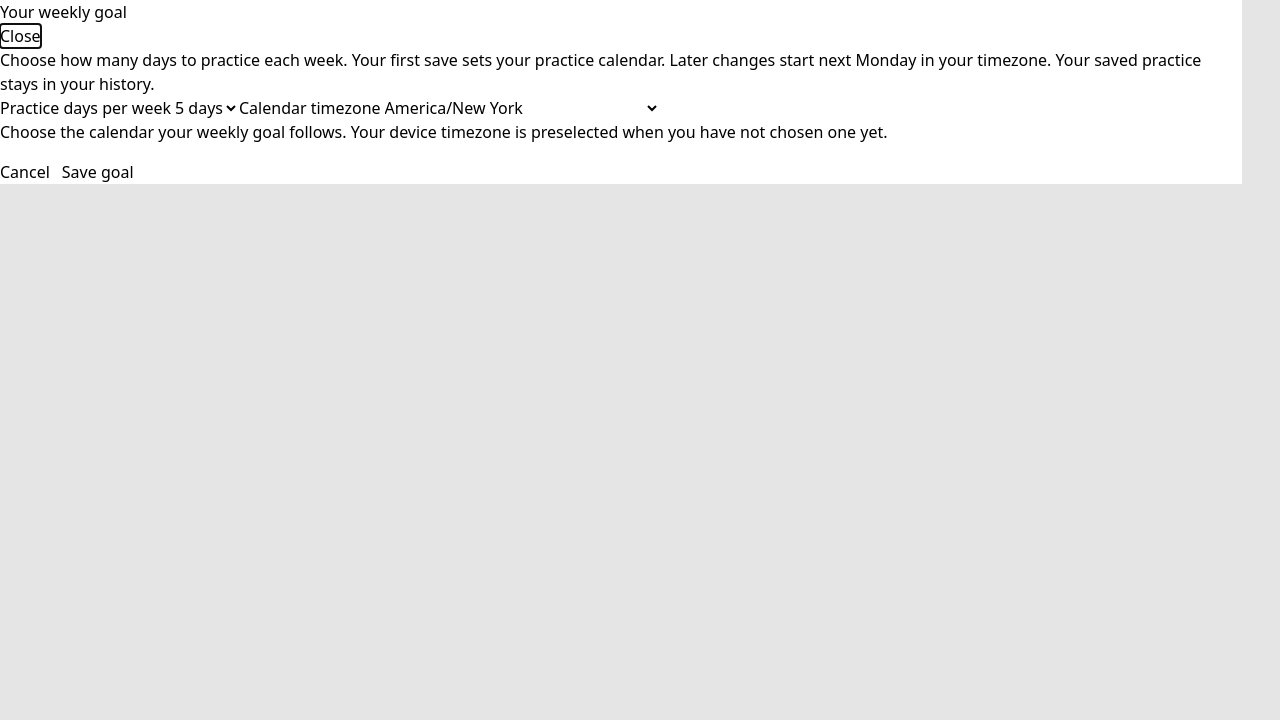
it: retains the dialog on failed save
What coordinates should you click on to do the following:
click the button "Save goal"
I would click on:
 (98, 172)
Its box is [62,160,134,184].
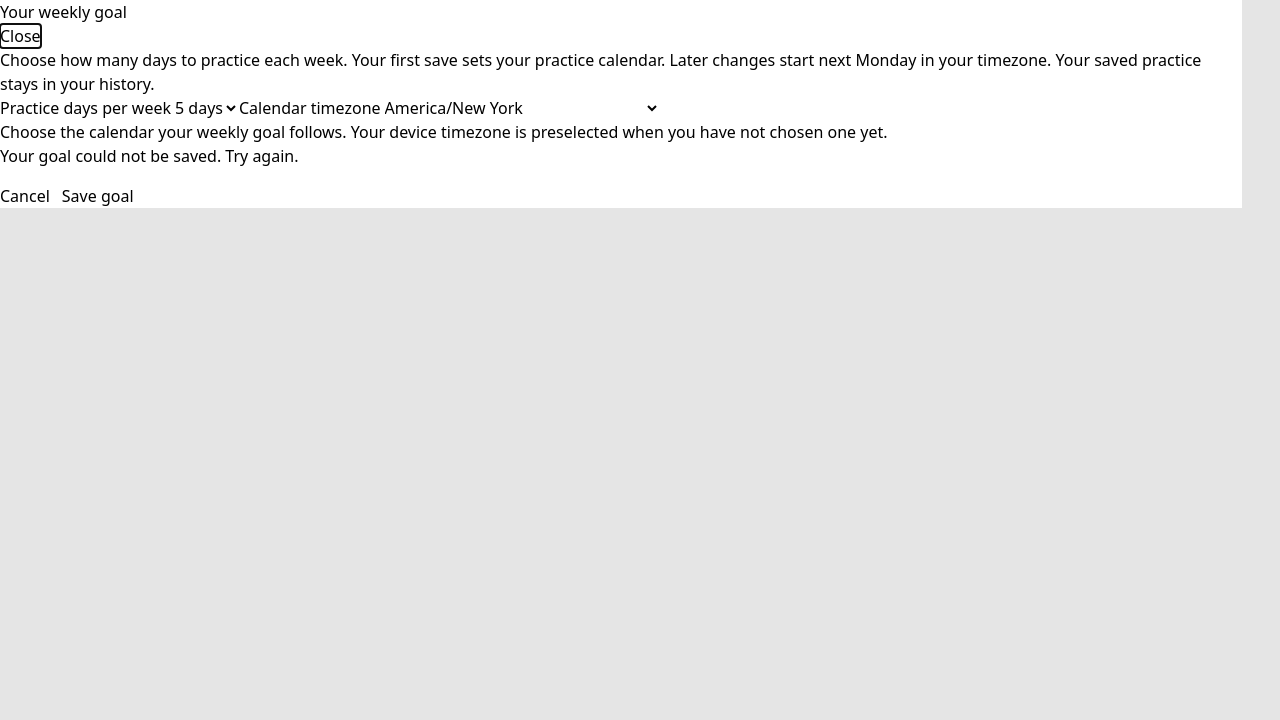
Expected: the message shows "could not be saved", [0,145,298,167]
